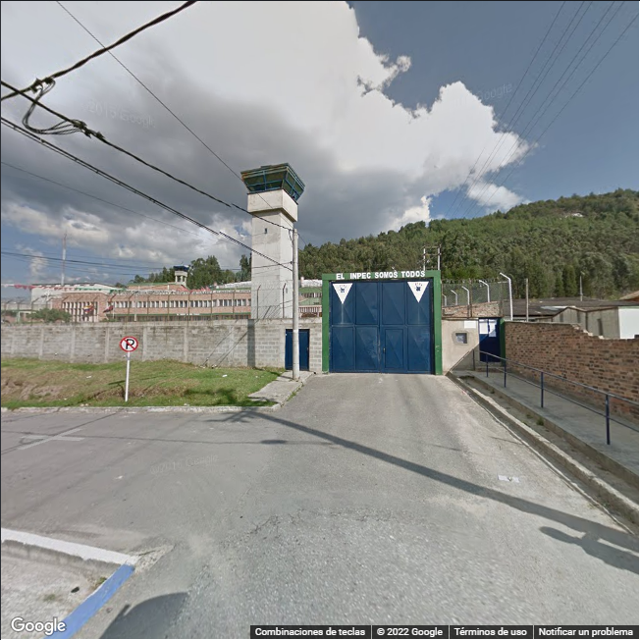D00: (241, 508, 280, 539), (524, 548, 549, 572)
D10: (293, 505, 462, 535)
